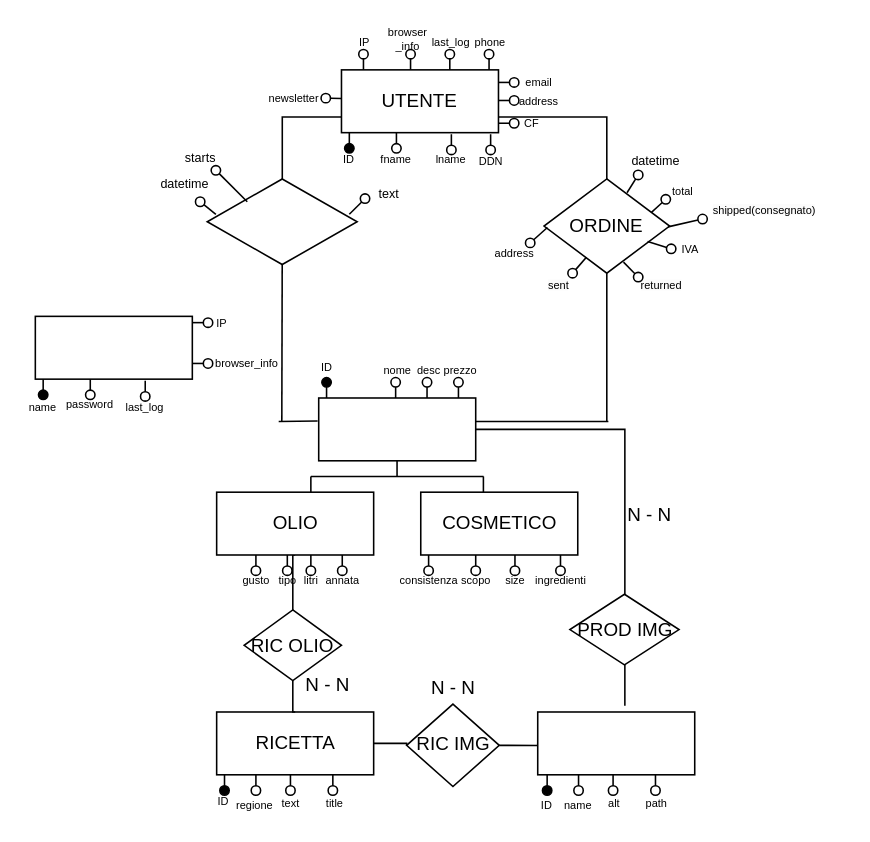
Some shapes in this 870 by 842 pixel diagram are drawn without their labels. The shapes that lost their labels are listed below. From the top down, each one's centre as x and y in pixels, then its label:
(281,221): RECENSIONE
(113,347): ADMIN
(396,428): PRODOTTO
(615,742): IMAGES
